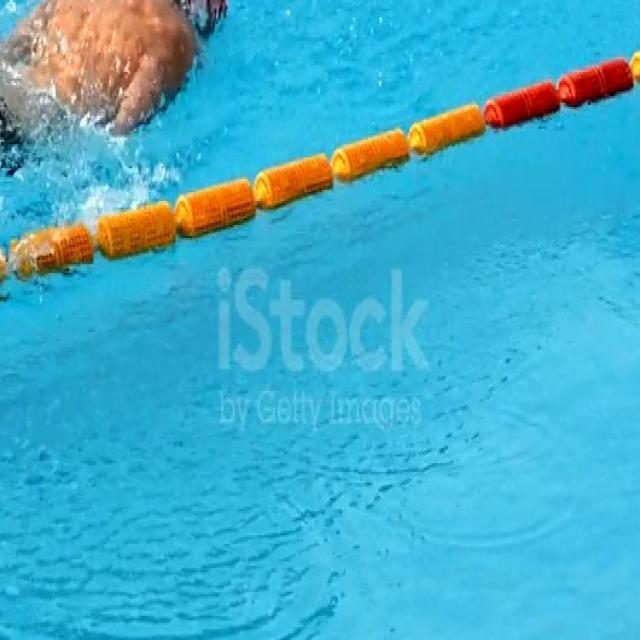Swimming: (2, 0, 230, 174)
